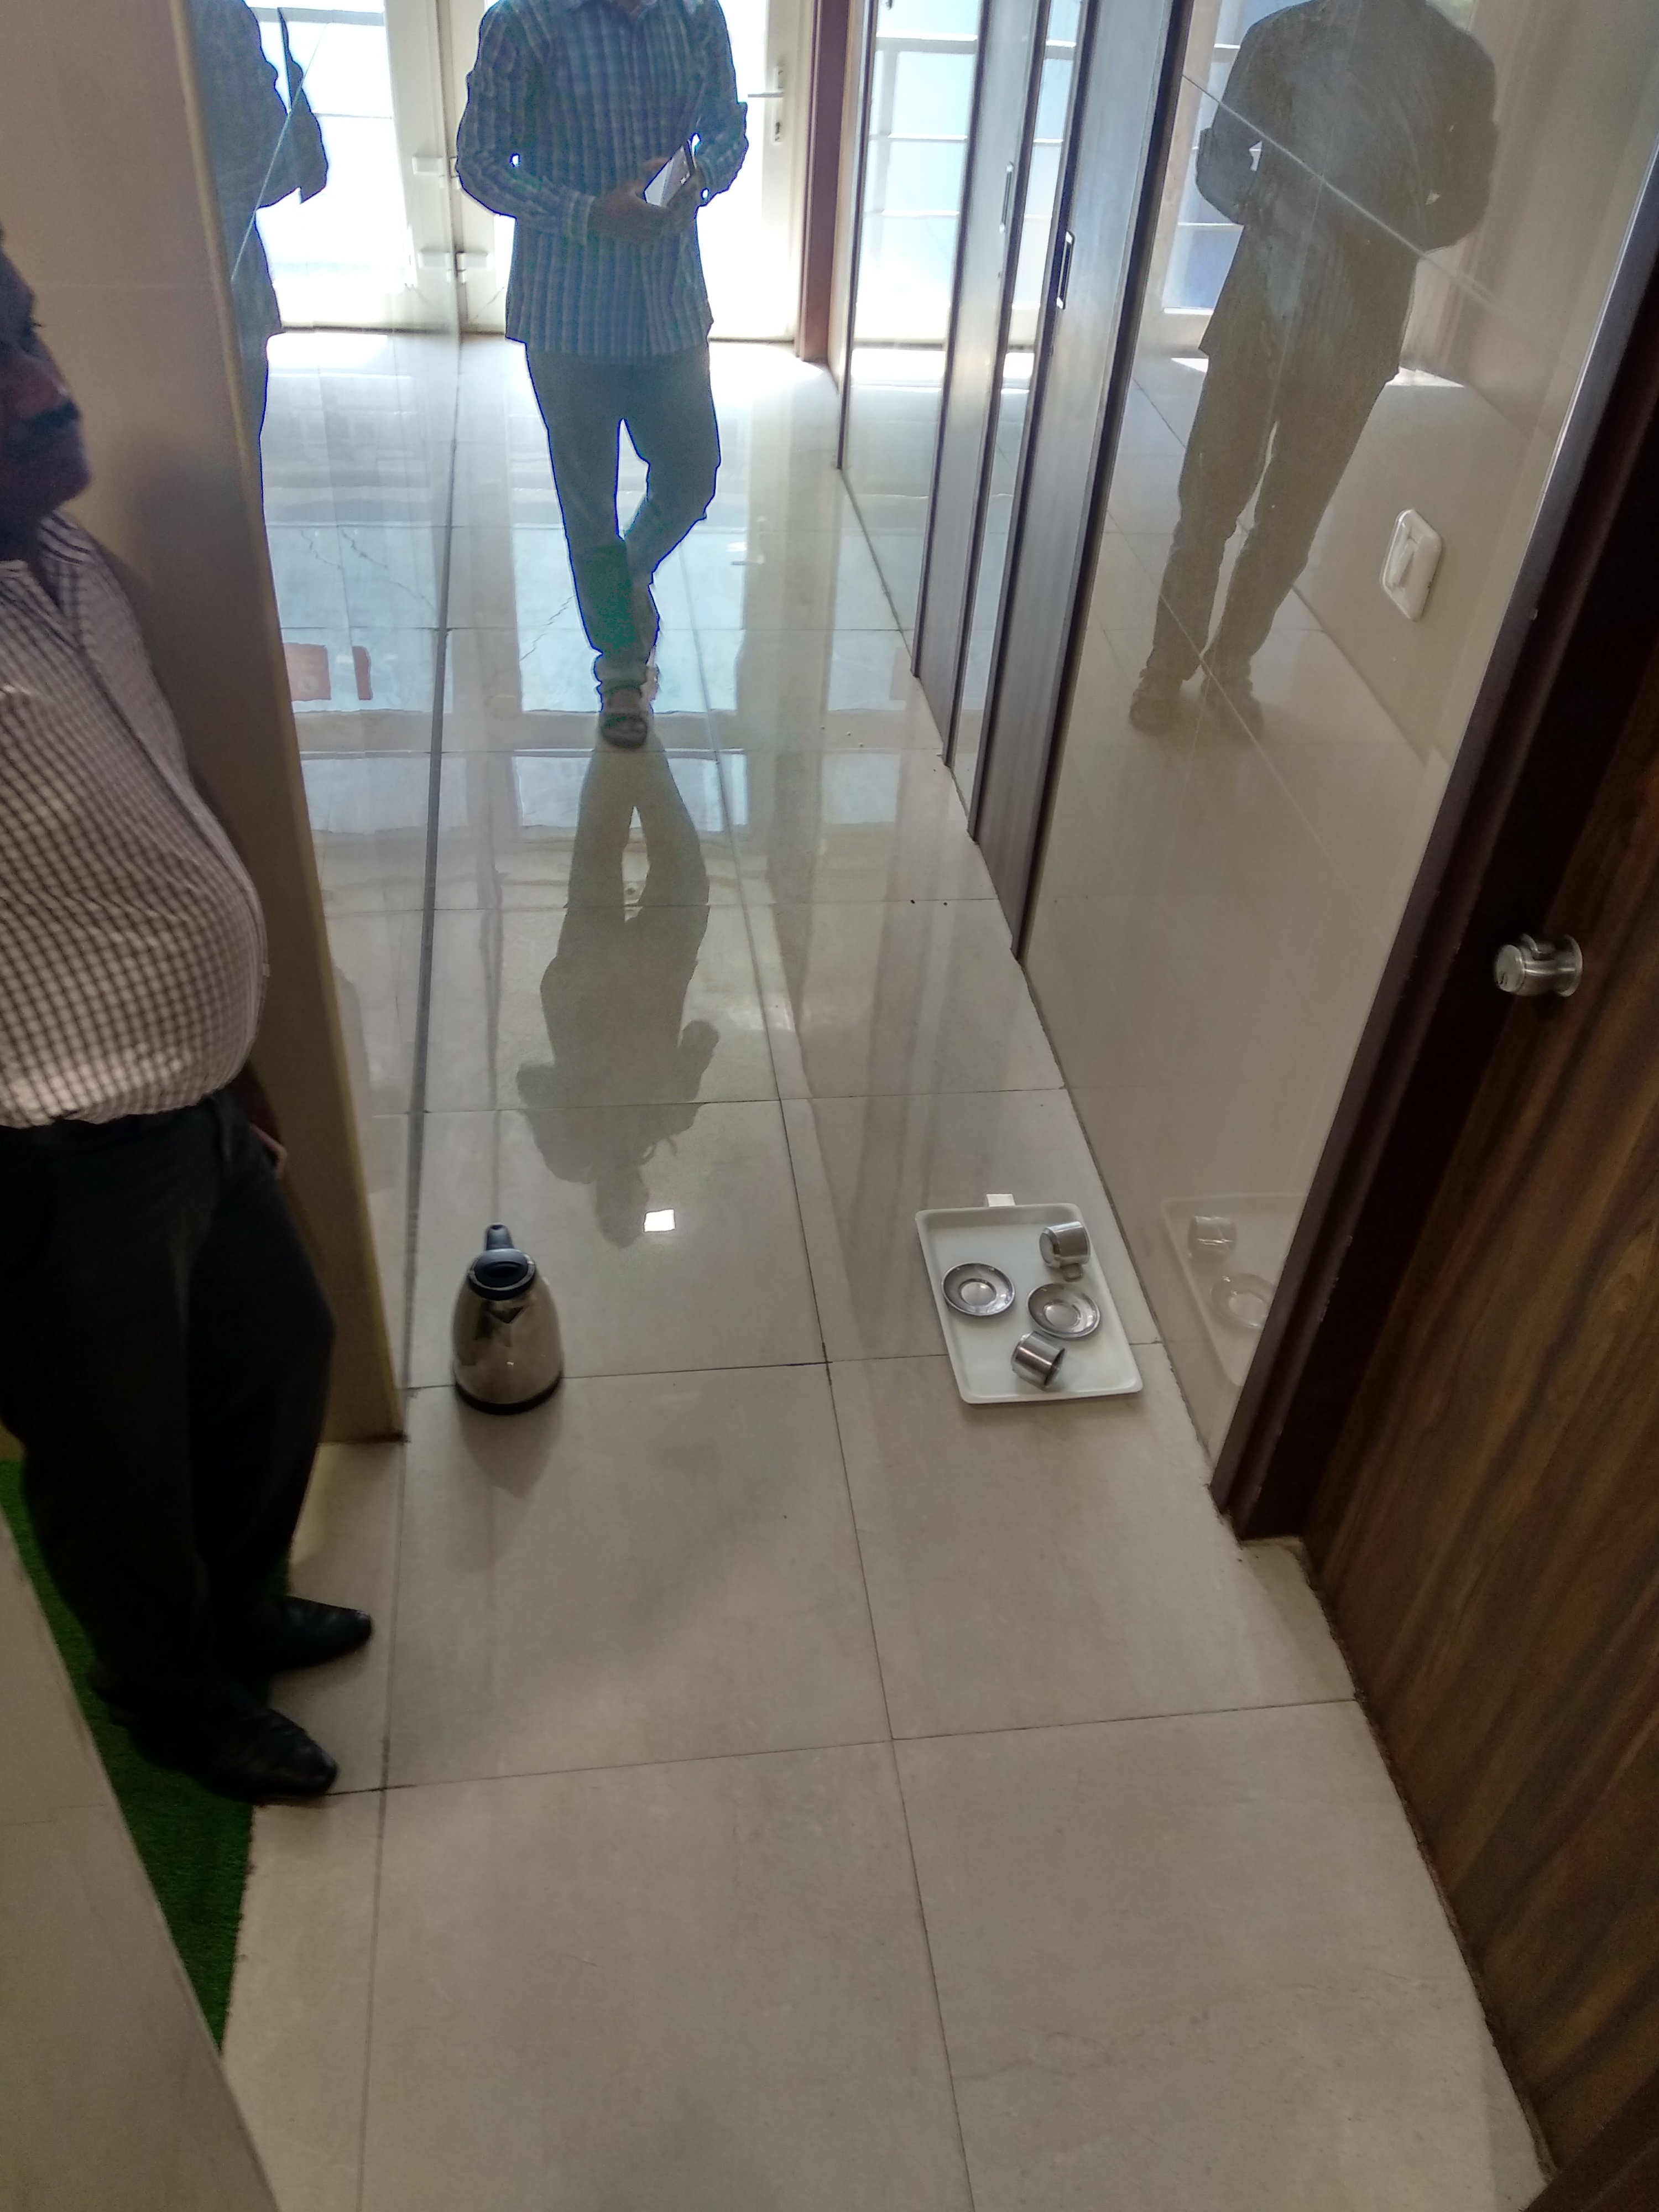CUP: (1035, 1219, 1093, 1280), (1009, 1332, 1068, 1390)
FLASK: (444, 1237, 558, 1425)
